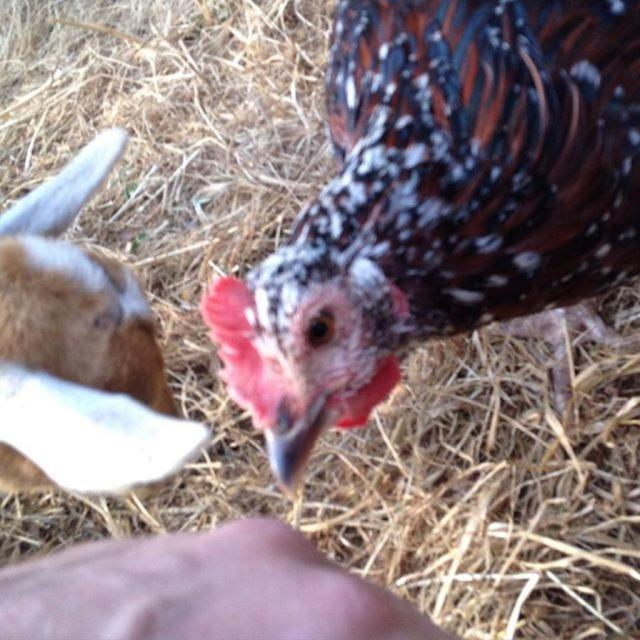Chicken: (193, 0, 637, 550)
